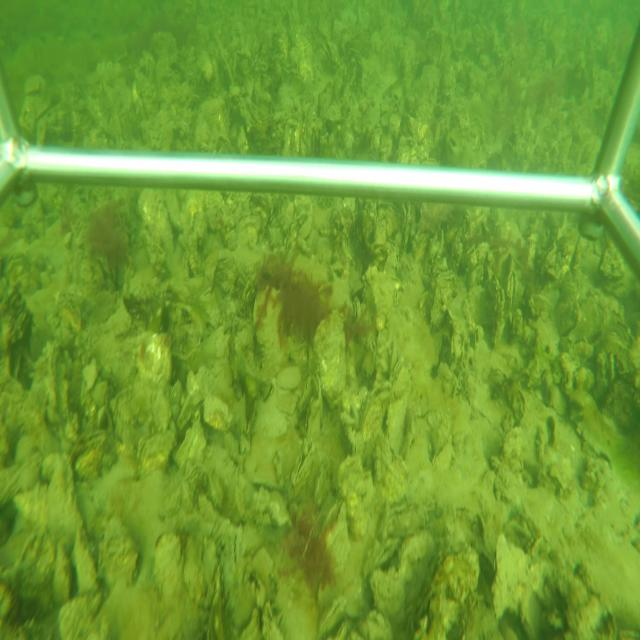Oyster-Closed: (406, 543, 481, 637), (367, 529, 440, 622), (489, 530, 533, 620), (358, 382, 391, 457), (70, 428, 108, 480), (483, 265, 504, 346), (291, 375, 312, 414), (401, 201, 415, 253), (506, 266, 519, 312)
Oyster-Indeterminate: (312, 308, 346, 405)
